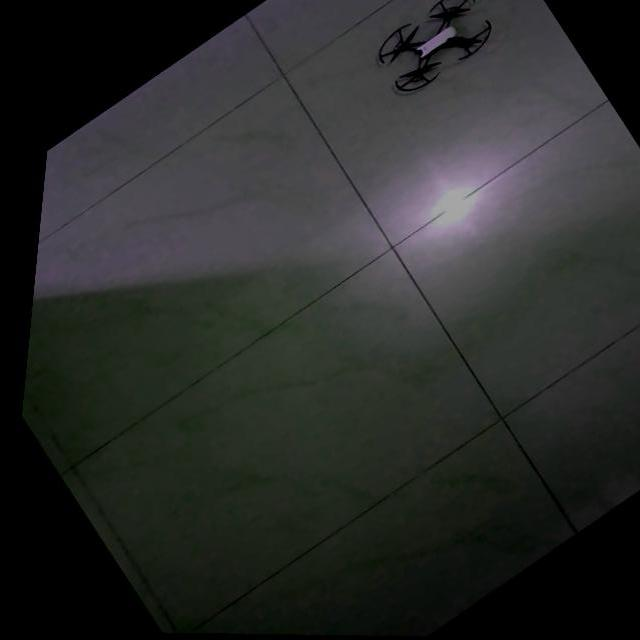drone: (366, 1, 480, 95)
